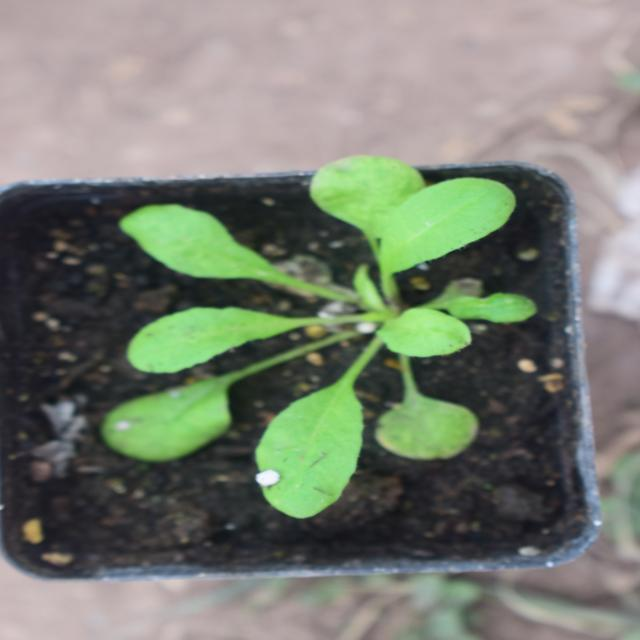Shepherd_Purse: (141, 120, 490, 502)
